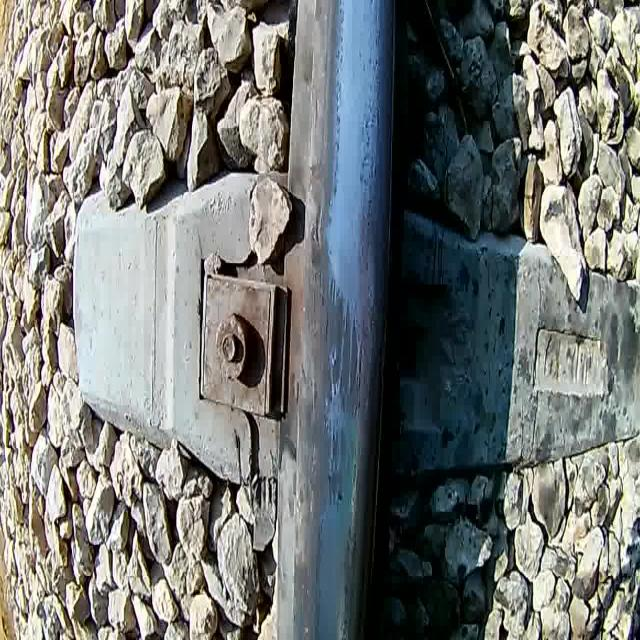Squats: (302, 243, 366, 412), (304, 403, 349, 528), (306, 153, 336, 279)
